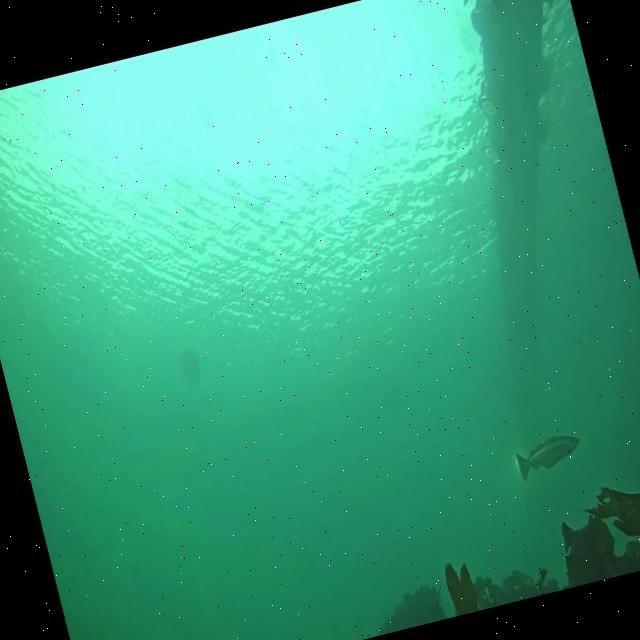fish: (514, 430, 587, 484), (455, 0, 479, 7)
